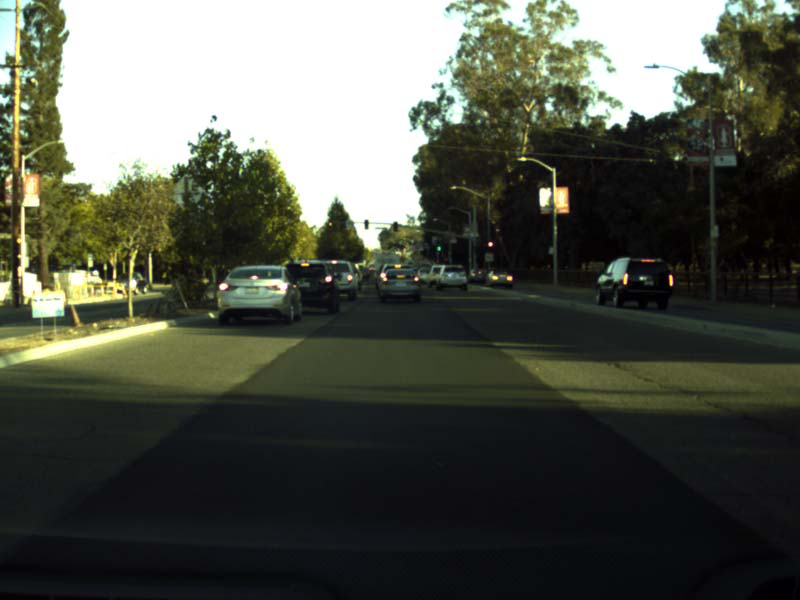Green: (435, 238, 442, 251)
Red: (487, 237, 494, 252)
Yellow: (328, 219, 333, 229)
